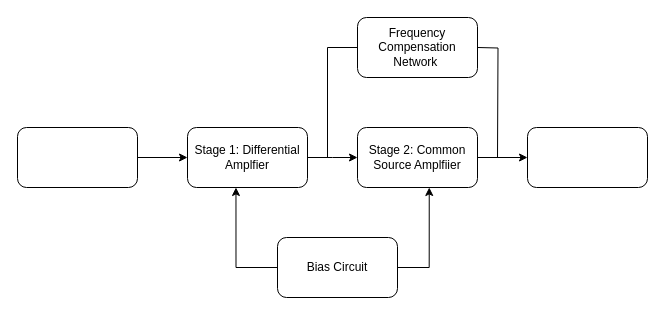
Image size: 665x315. Some labels were removed from this diagram. The shapes that lost their labels are listed below. From the top down, each one's centre as x and y in pixels, then its label:
At (x=77, y=157): "Differential Inputs Vin+ and Vin-".
At (x=587, y=157): "Output".
